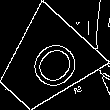O_SW: (12, 31, 79, 97)
